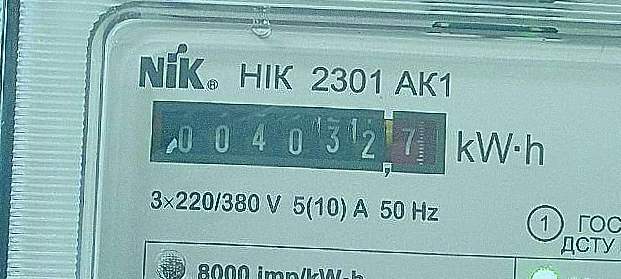0: (210, 122, 231, 155), (284, 123, 304, 157), (174, 121, 194, 154)
2: (358, 126, 377, 161)
3: (322, 122, 341, 155)
4: (247, 120, 268, 156)
7: (399, 125, 417, 158)
screen: (139, 92, 455, 187)
